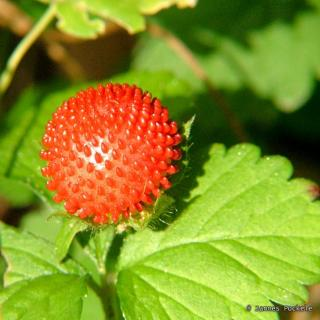Strawberry: (48, 92, 173, 218)
